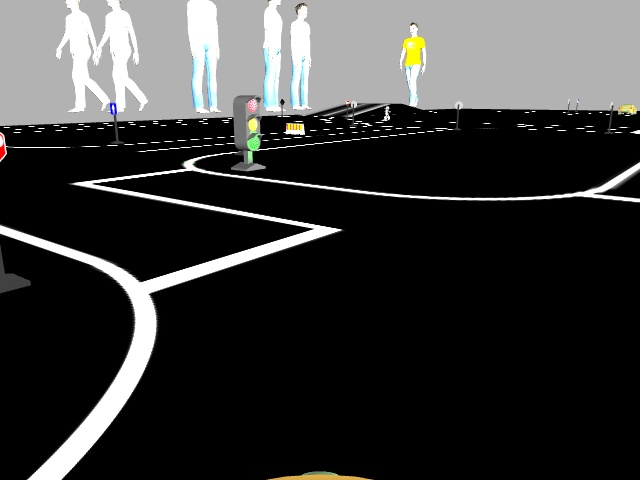ClosedRoadStand: (285, 122, 305, 134)
TrafficLight: (232, 97, 259, 150)
